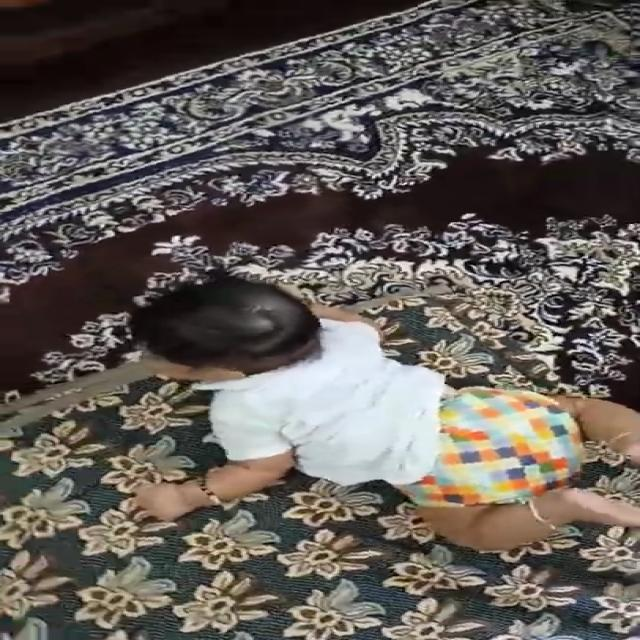baby: (122, 278, 640, 555)
